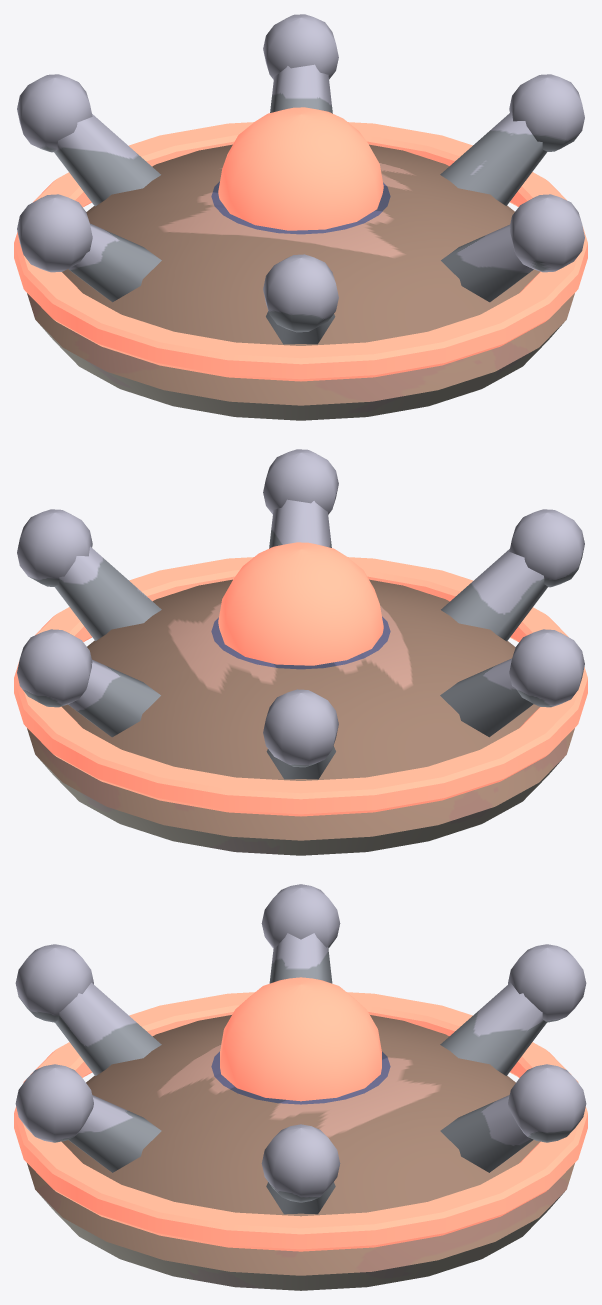
The model's file is R4D_ExplosiveTrap.glb.
3 views of the same model, one above another, from view 1: azimuth 30°, elevation 25°; view 2: azimuth 150°, elevation 25°; view 3: azimuth 270°, elevation 25° (orthographic).
Parts seen in each view (by area): view 1: R4D_ExplosiveTrap_Body, R4D_ExplosiveTrap_Lamp; view 2: R4D_ExplosiveTrap_Body, R4D_ExplosiveTrap_Lamp; view 3: R4D_ExplosiveTrap_Body, R4D_ExplosiveTrap_Lamp.
Part boxes in pixels (box(x1,y1,x2,y2)): R4D_ExplosiveTrap_Body: box(14, 14, 587, 420); R4D_ExplosiveTrap_Lamp: box(218, 107, 383, 230); R4D_ExplosiveTrap_Body: box(14, 449, 587, 855); R4D_ExplosiveTrap_Lamp: box(218, 542, 383, 665); R4D_ExplosiveTrap_Body: box(14, 884, 587, 1290); R4D_ExplosiveTrap_Lamp: box(220, 977, 381, 1101).
Bounding box in the file's own units: 0.5054 × 0.1708 × 0.4484.
Materials: 5 (4 with a texture image).
